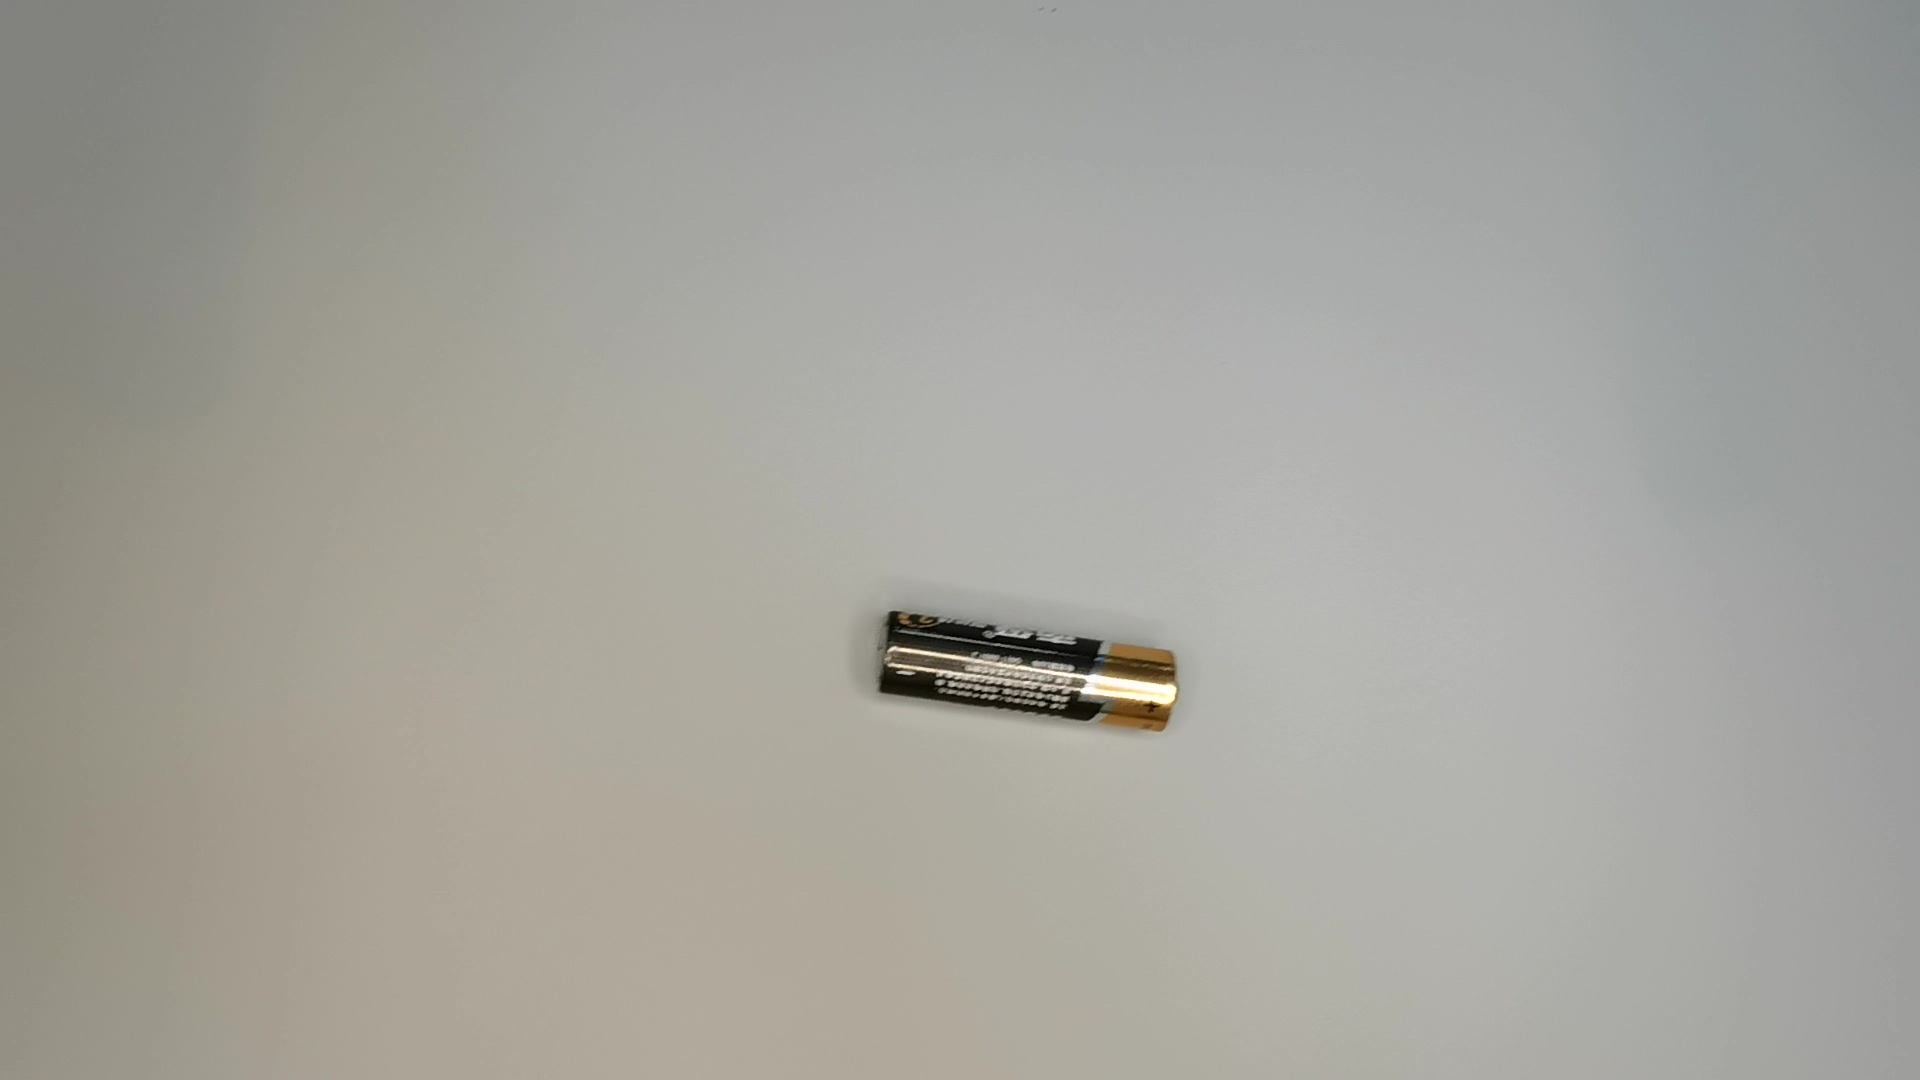battery: (866, 607, 1193, 753)
